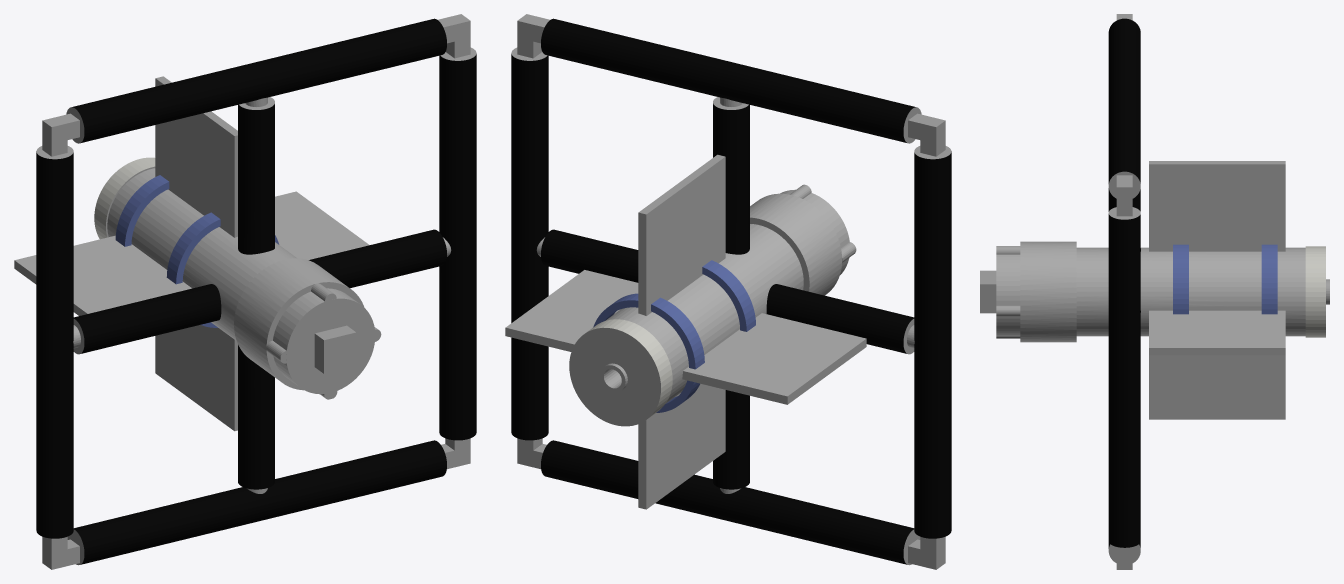
Rendered from mast.glb.
3 renders of one model, left to right at view 1: azimuth 30°, elevation 25°; view 2: azimuth 150°, elevation 25°; view 3: azimuth 270°, elevation 25°, orthographic. The views are drawn at different scales.
Parts seen in each view (by area): view 1: empty_2; view 2: empty_2; view 3: empty_2.
Boxes of the visible parts, left/top/right/bottom form: empty_2: left=14, top=14, right=476, bottom=569; empty_2: left=505, top=14, right=951, bottom=569; empty_2: left=980, top=14, right=1329, bottom=569.
Bounding box in the file's own units: 540 × 540 × 435.
